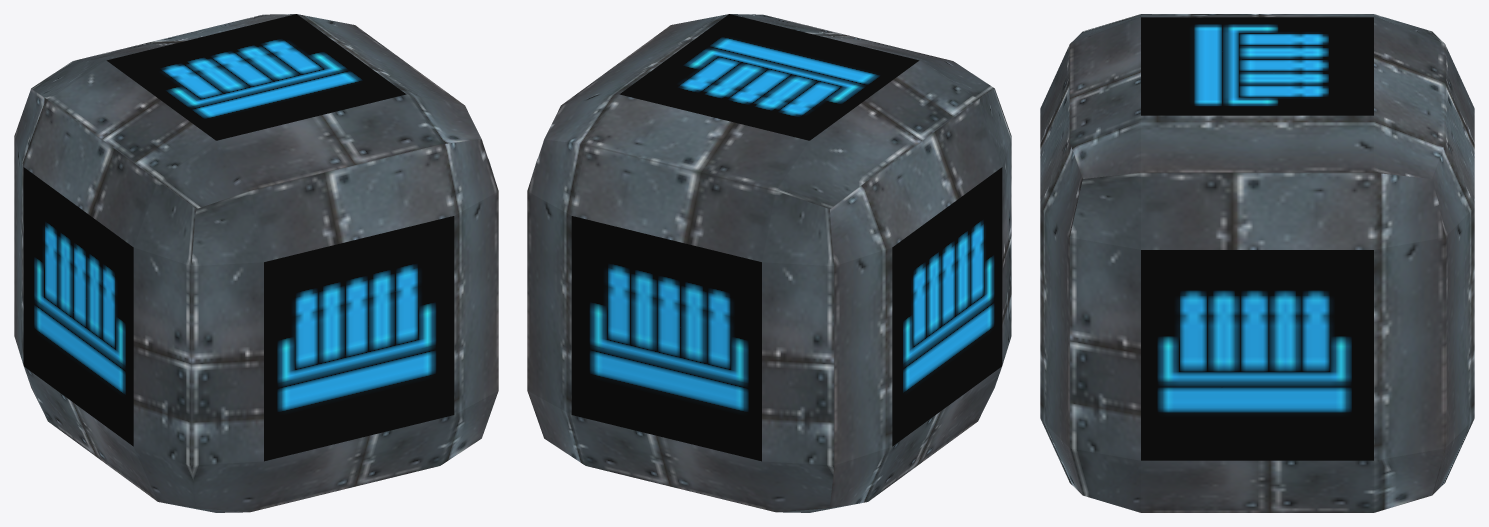
Rendered from ammo_pickup_handgun.glb.
3 views of the same model, side by side, from view 1: azimuth 30°, elevation 25°; view 2: azimuth 150°, elevation 25°; view 3: azimuth 270°, elevation 25° (orthographic). The views are drawn at different scales.
Visible parts, largest first — view 1: AMMO; view 2: AMMO; view 3: AMMO.
Boxes of the visible parts, box(x1,y1,x2,y2) form: AMMO: box(14, 14, 498, 512); AMMO: box(527, 14, 1011, 512); AMMO: box(1040, 14, 1474, 512).
Size of the model in its own units: 0.3671 by 0.3671 by 0.3671.
1 material, 1 textured.
